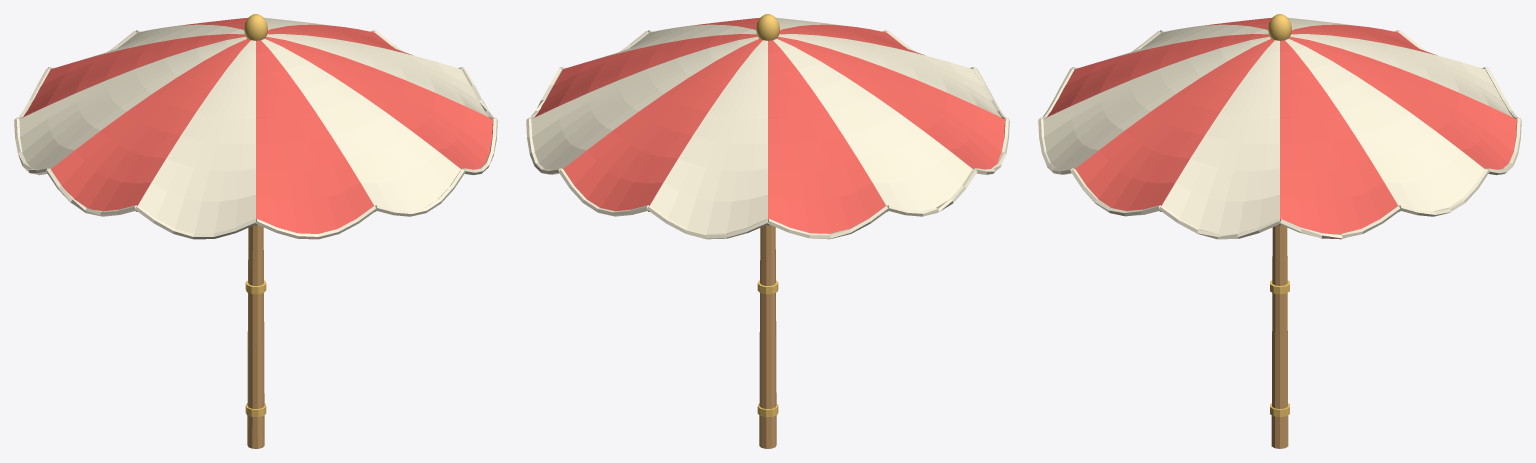
File: beach-umbrella.glb
3 views of the same model, side by side, from view 1: azimuth 30°, elevation 25°; view 2: azimuth 150°, elevation 25°; view 3: azimuth 270°, elevation 25° (orthographic).
Visible parts, largest first — view 1: ScallopedUmbrella.001; view 2: ScallopedUmbrella.001; view 3: ScallopedUmbrella.001.
Part boxes in pixels (<box>): ScallopedUmbrella.001: <box>14,14,497,448</box>; ScallopedUmbrella.001: <box>526,14,1009,448</box>; ScallopedUmbrella.001: <box>1038,14,1521,448</box>.
Bounding box in the file's own units: 3.04 × 2.98 × 3.03.
